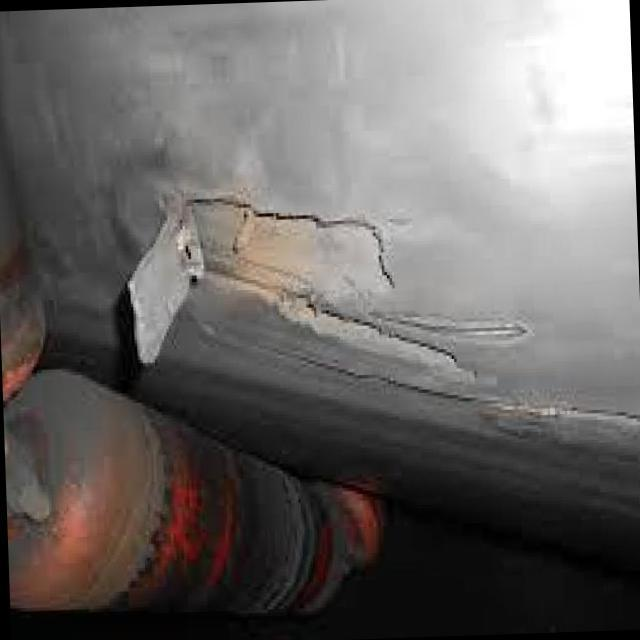Tear: (120, 190, 536, 412)
